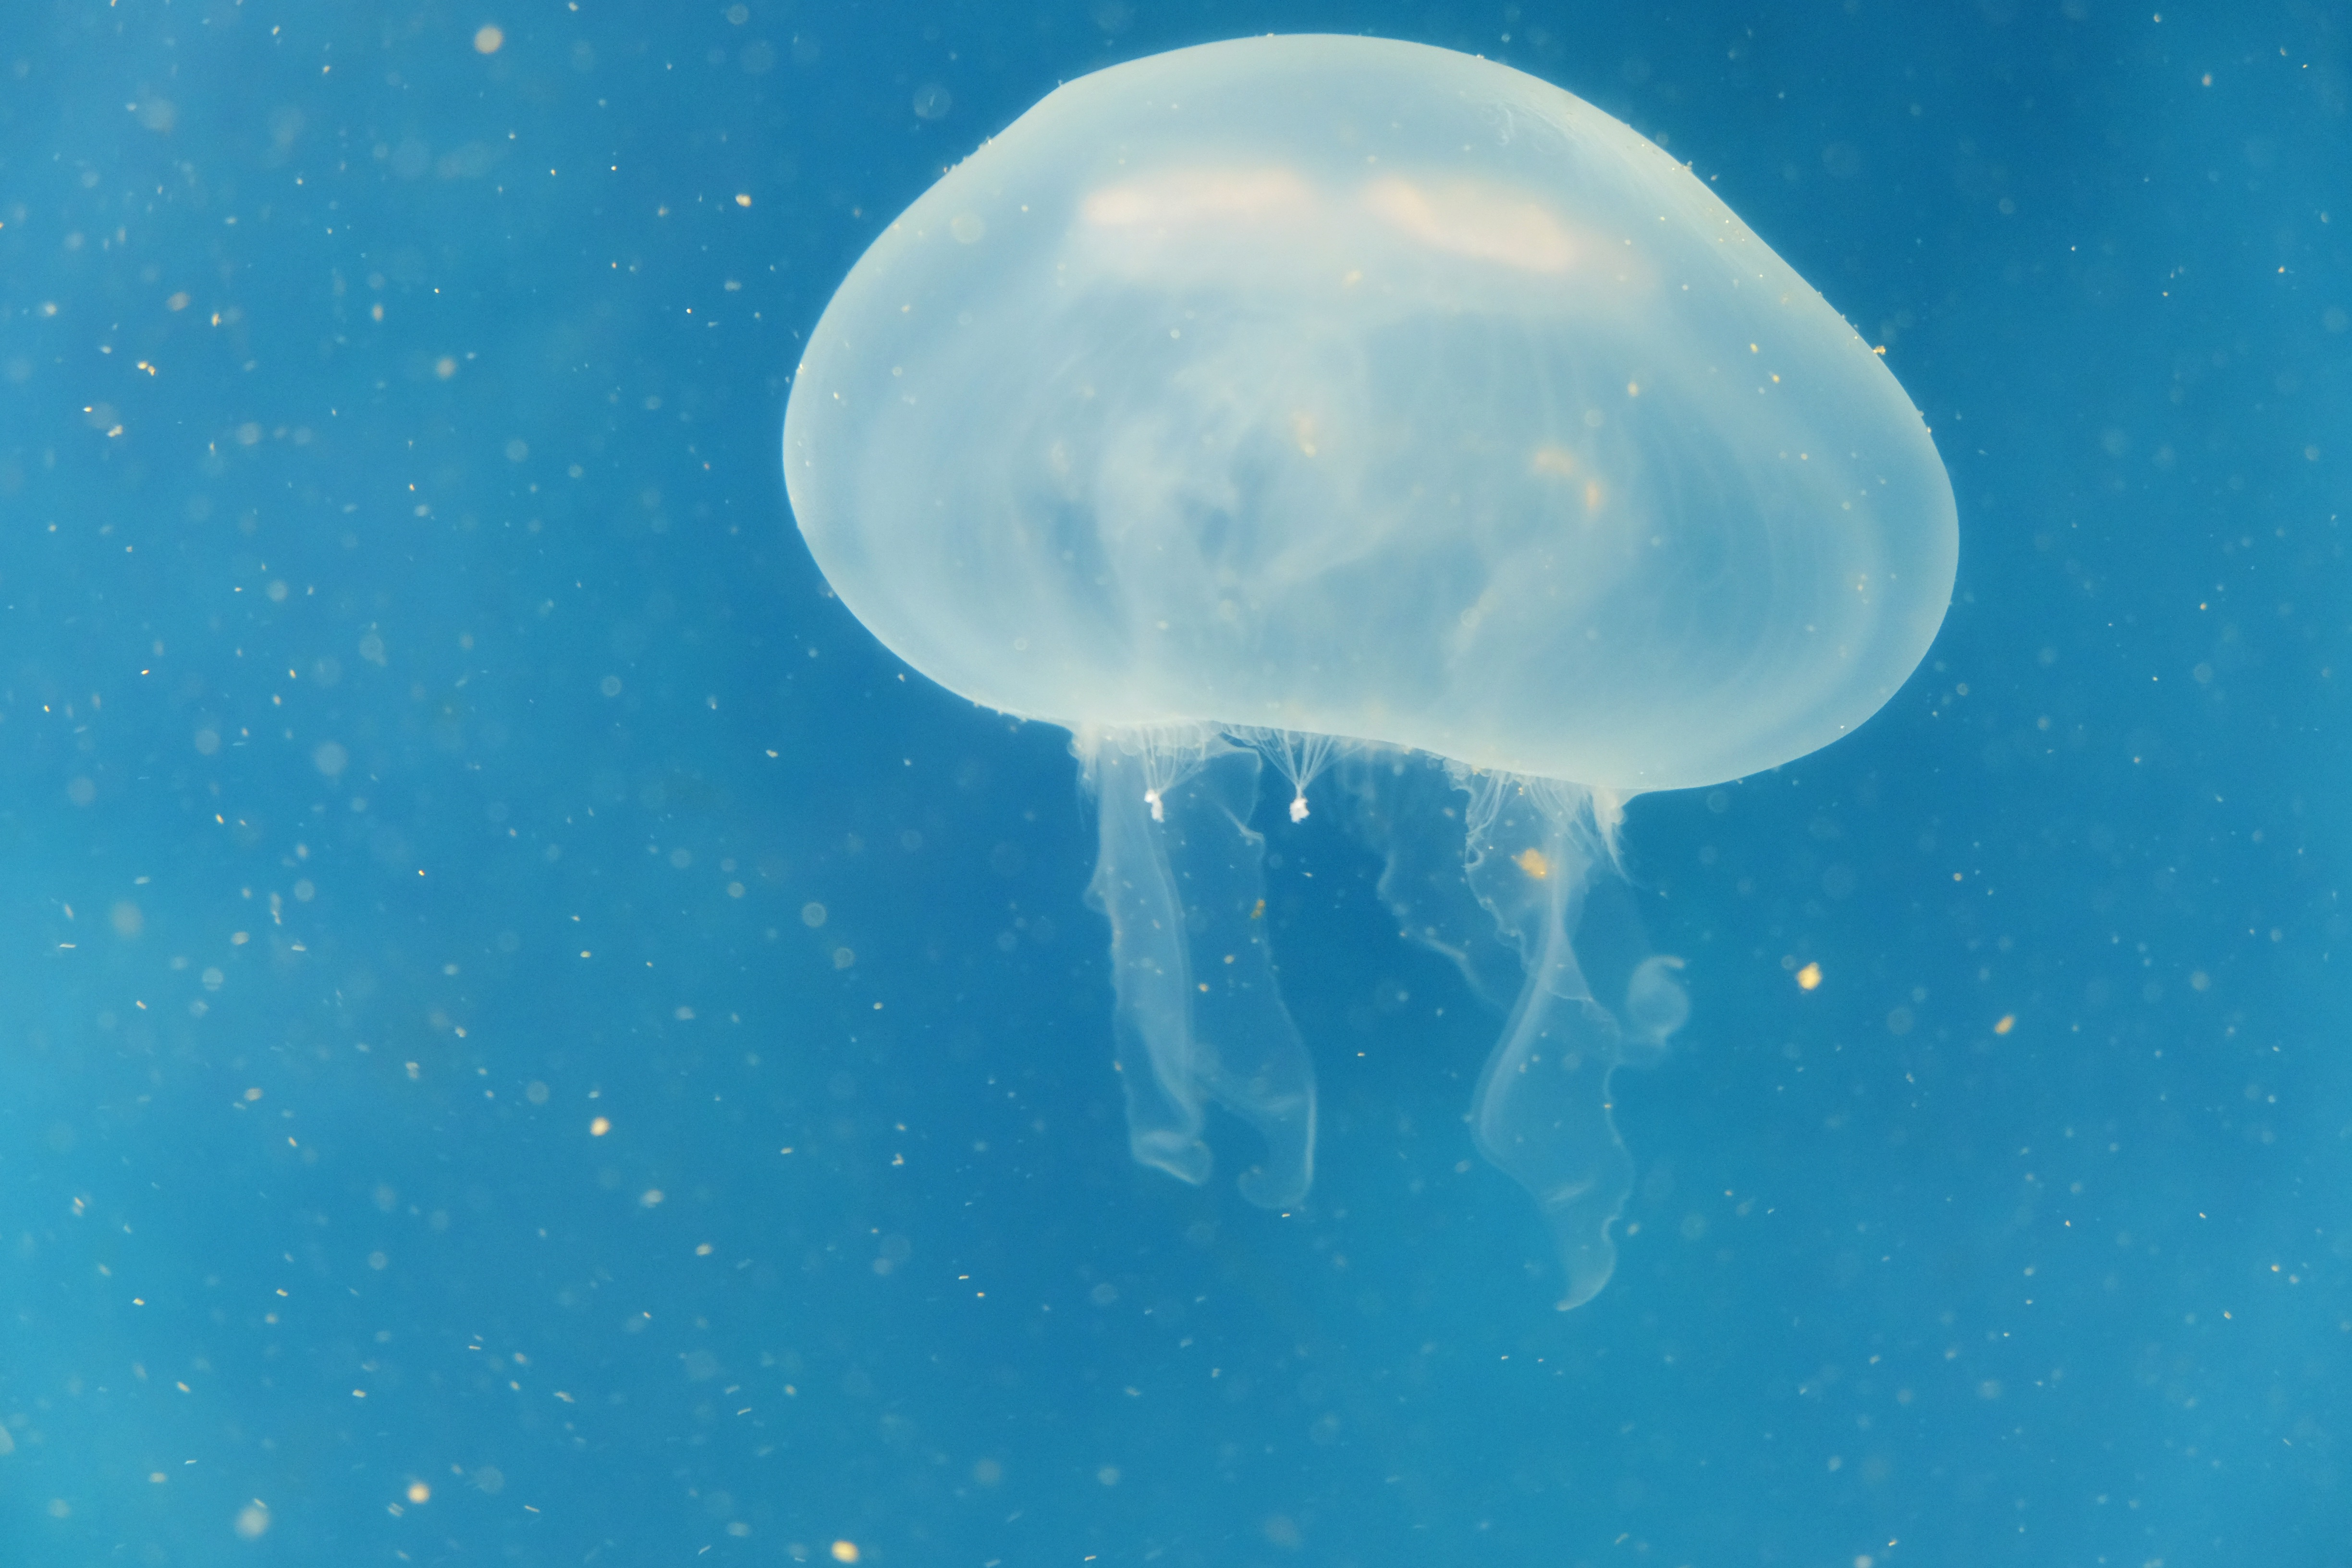jellyfish: (766, 21, 2075, 1220)
